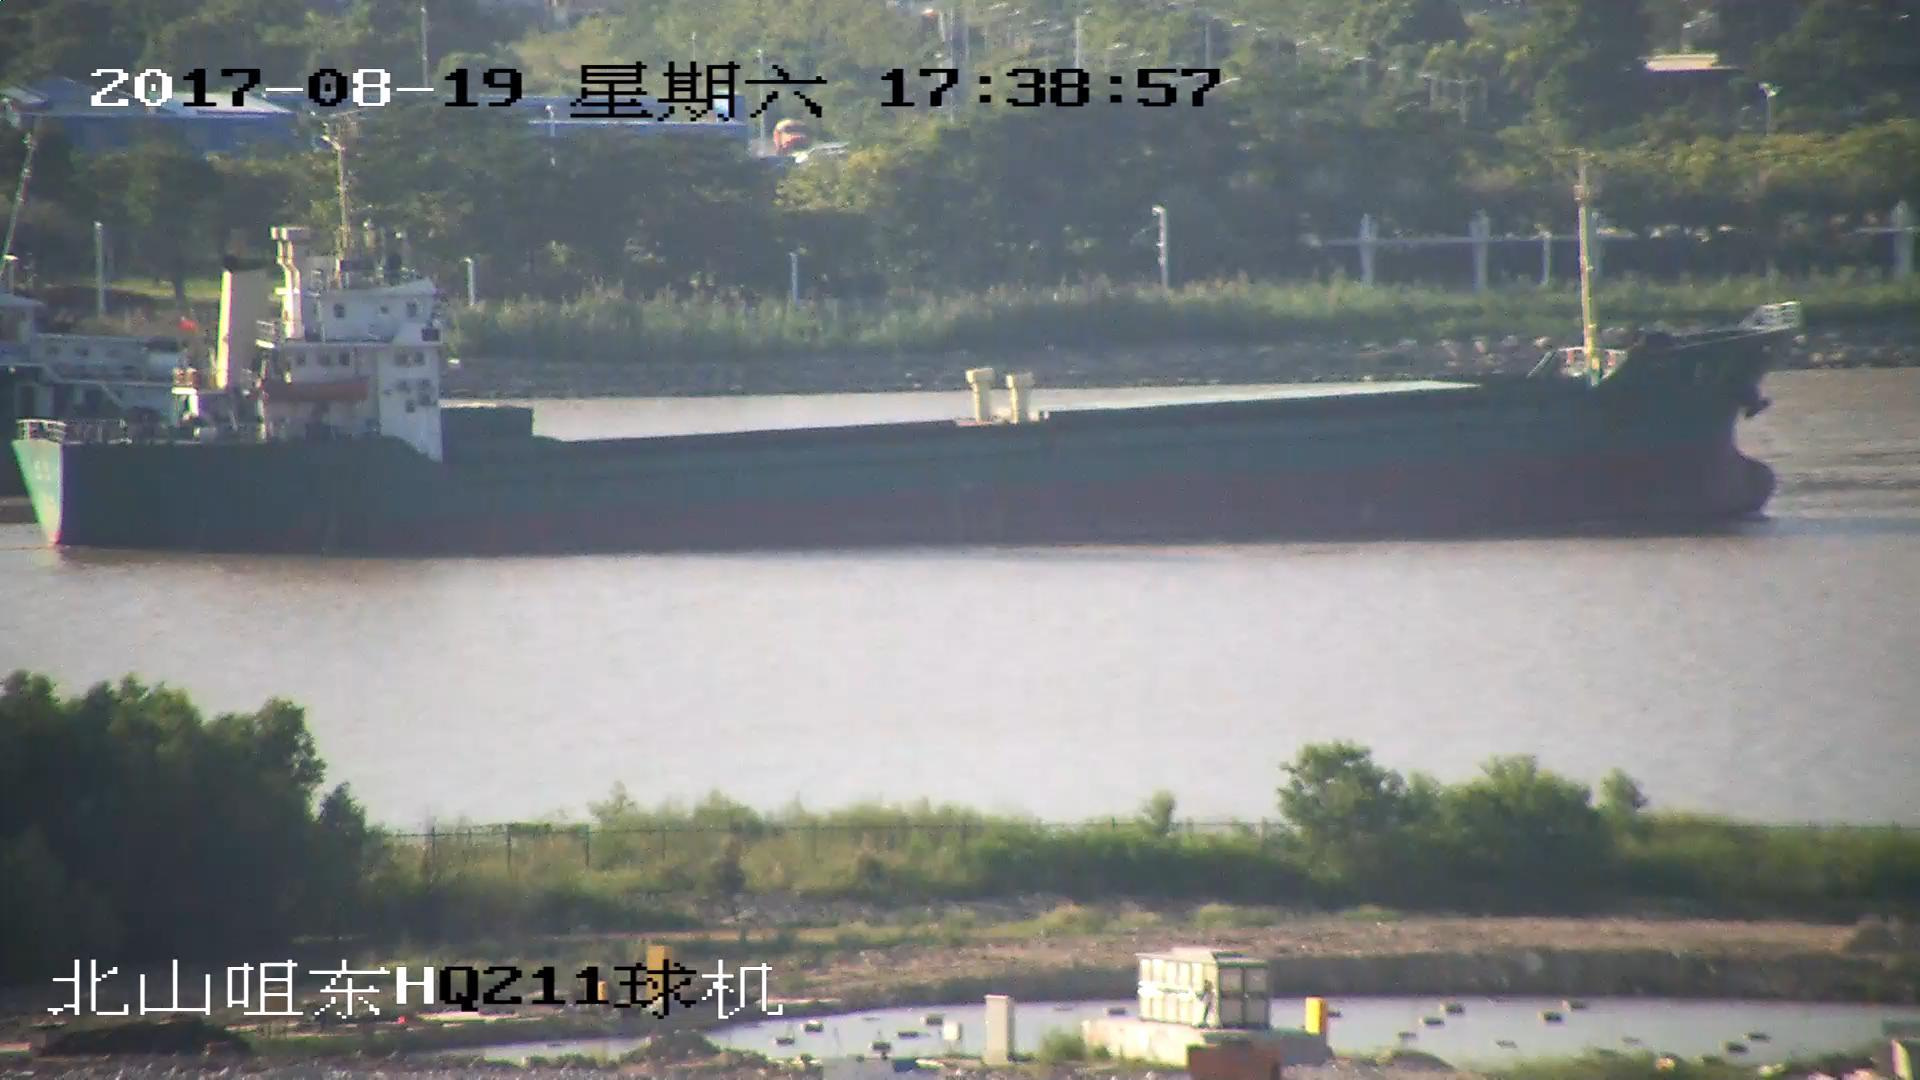Ship: (22, 170, 1789, 559)
